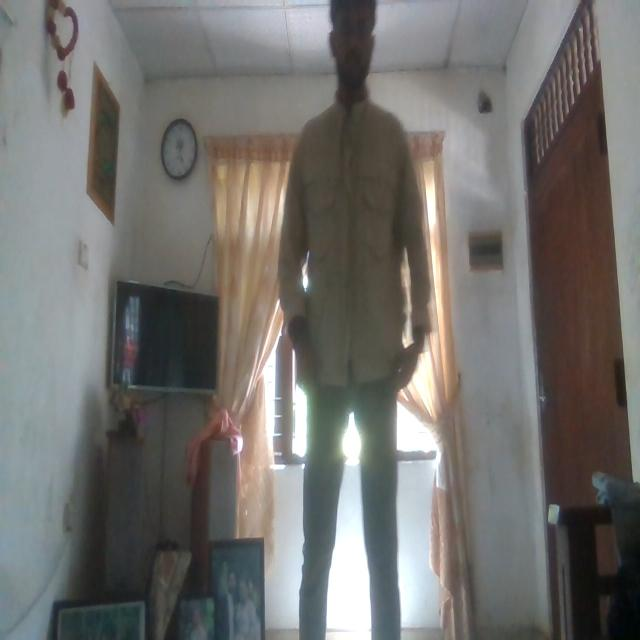Jacket_Wearer: (281, 99, 427, 392)
Person: (273, 0, 431, 640)
